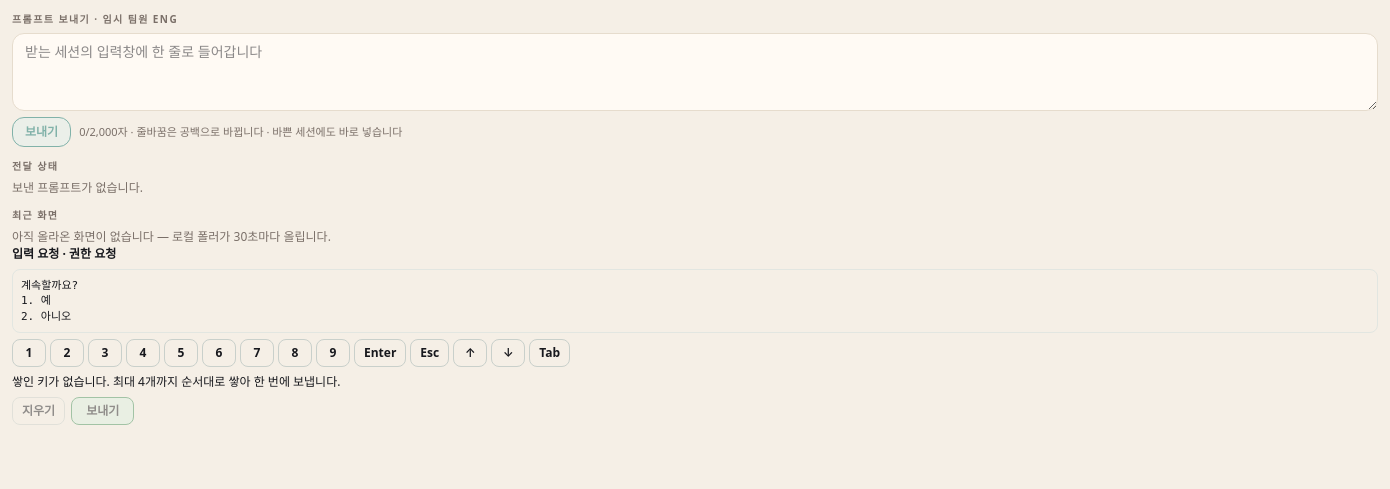
Test: AgentConsole — 입력 요청 답하기 › 코드 not_owner 안내
What coordinates should you click on to do the following:
click the button "1"
I would click on:
 (29, 353)
Its box is left=12, top=339, right=46, bottom=367.
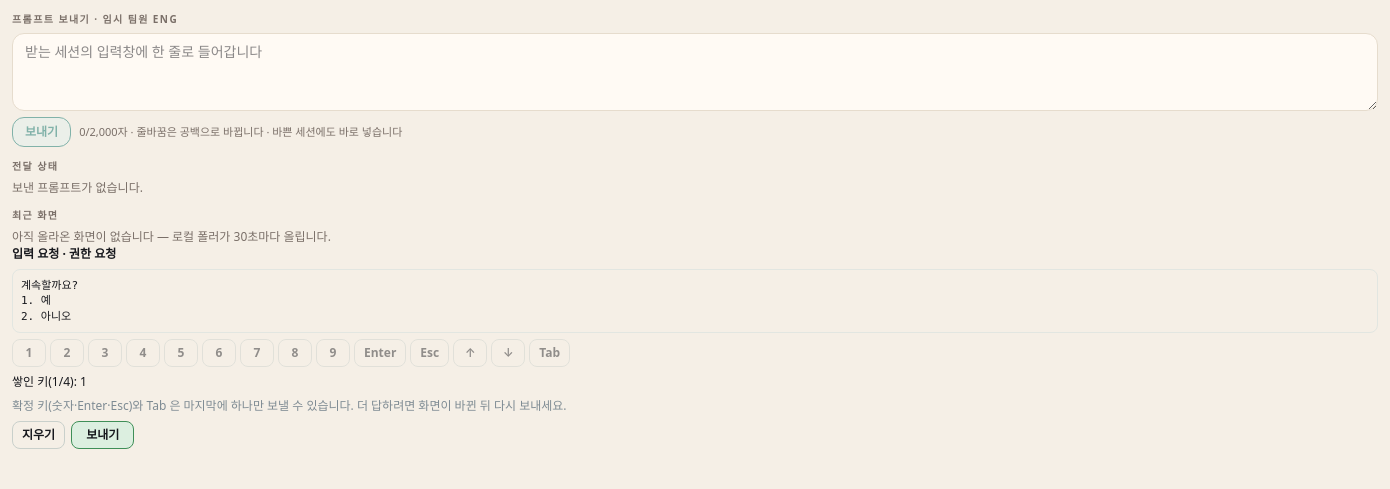
What coordinates should you click on to do the following:
click the button "보내기" below "쌓인 키(1/4): 1"
I would click on:
 (103, 435)
Its box is left=71, top=421, right=134, bottom=449.
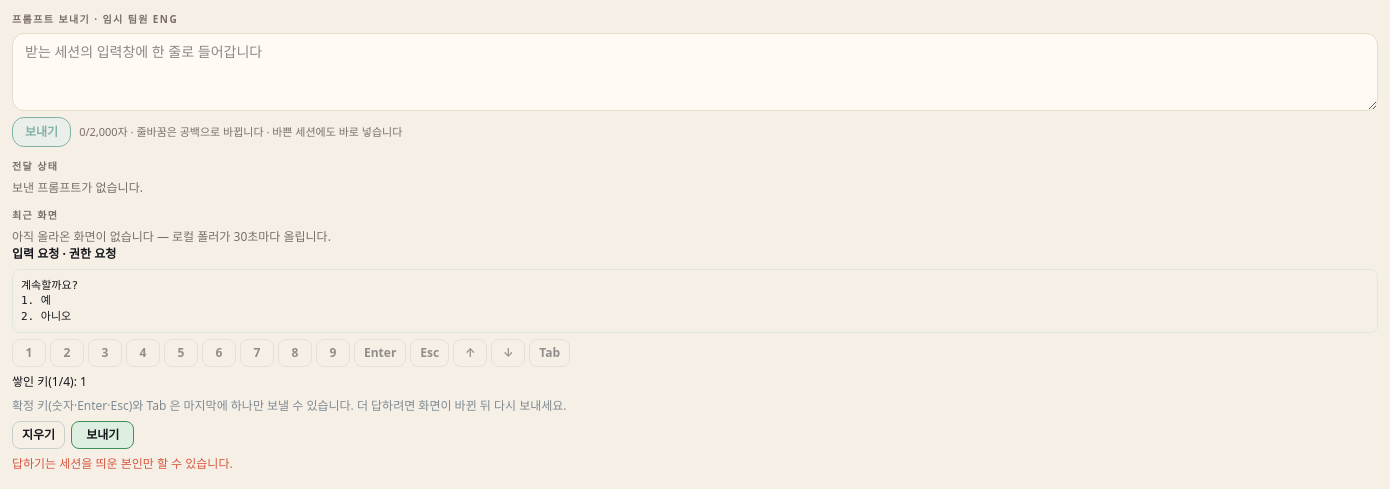
Check: the message "답하기는 세션을 띄운 본인만 할 수 있습니다." is shown, box left=12, top=455, right=233, bottom=472
